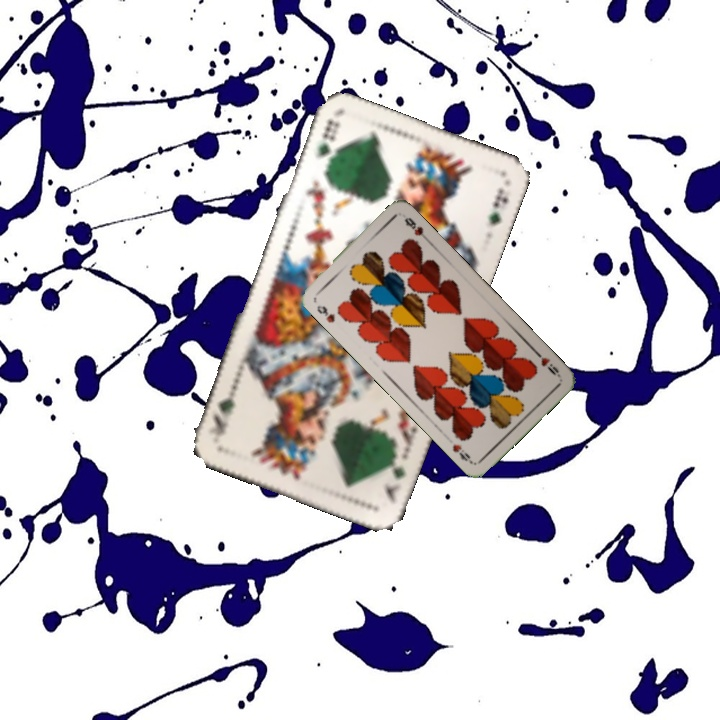GK: (379, 447, 409, 505), (313, 115, 343, 162)
H9: (530, 347, 563, 380), (313, 301, 337, 326)
